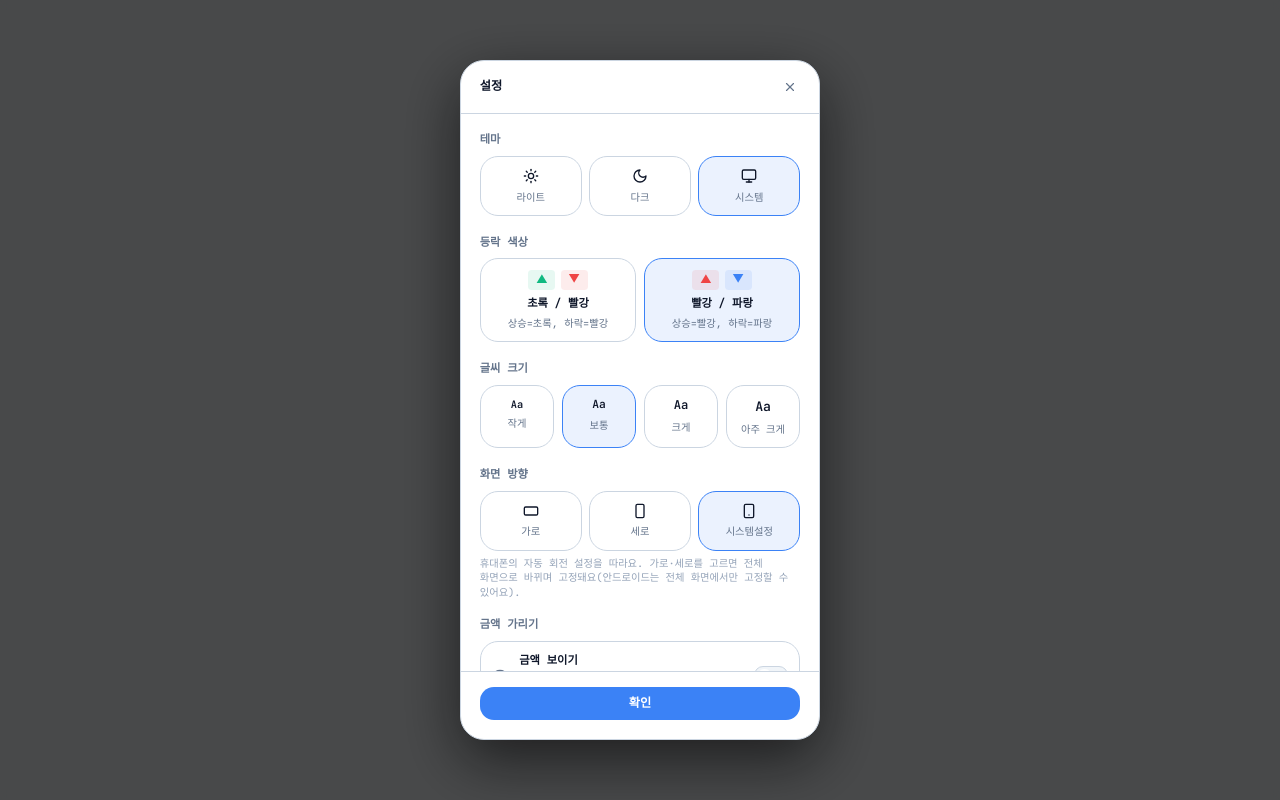
it: 안드로이드 › 세로를 누르면 전체 화면에 들어가 고정하고, 그렇다고 말한다
Expected: the message shows "휴대폰의 자동 회전 설정을 따라요", [480,556,788,598]
What coordinates should you click on to do the following:
click the button "세로"
I would click on:
 (640, 521)
Its box is [589,491,691,551].
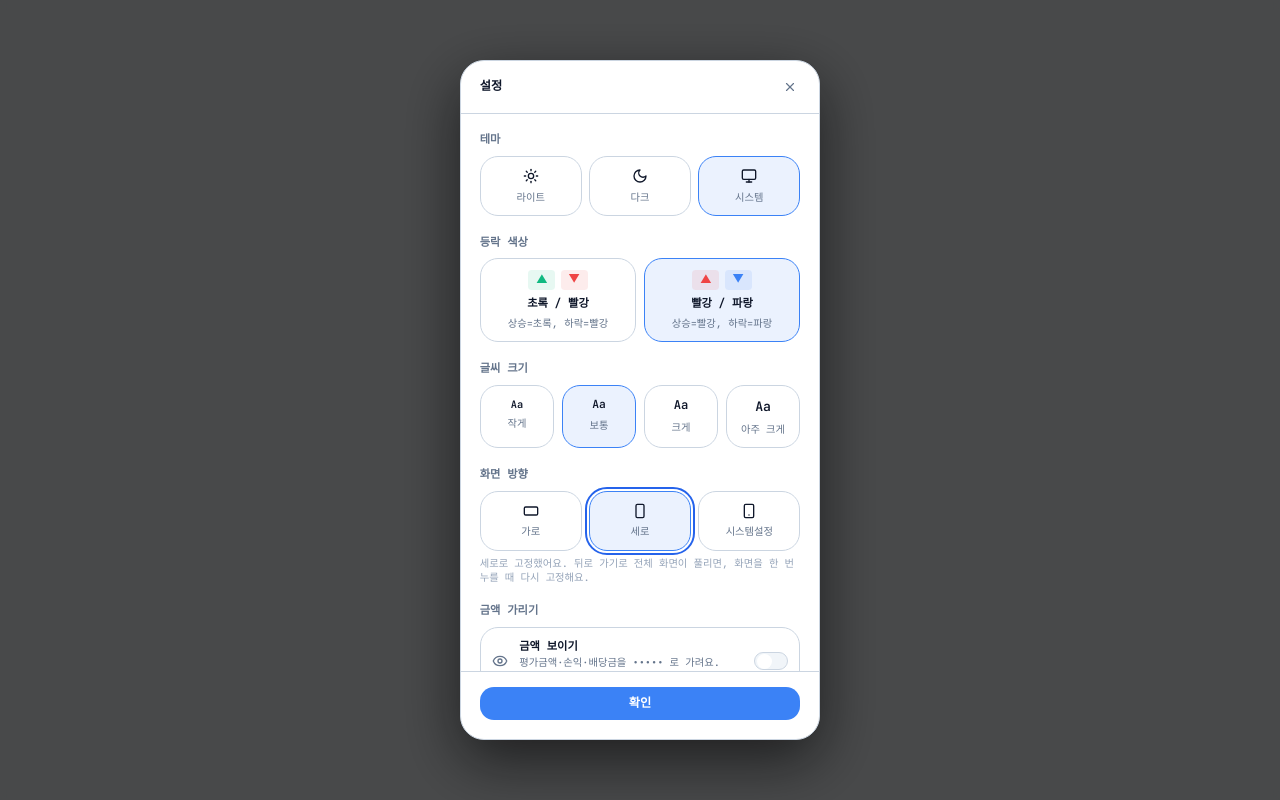
Now the message shows "세로로 고정했어요. 뒤로 가기로 전체 화면이 풀리면", box [480,556,794,584]
